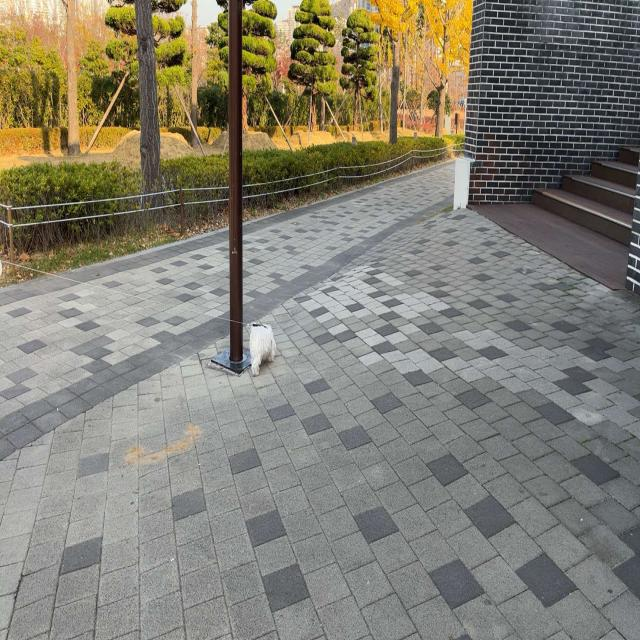Dog: (248, 320, 278, 377)
